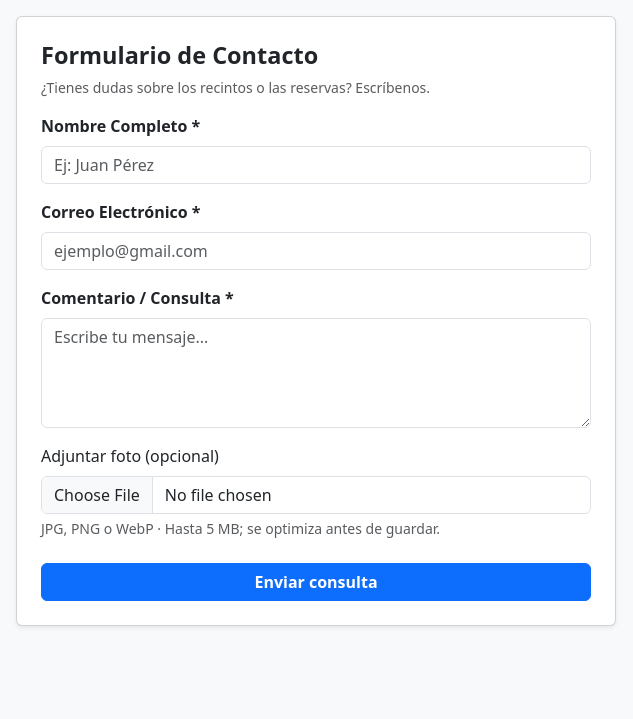
Test: DSY1104 — diez pruebas unitarias de componentes React con Vitest › 04 actualiza el estado del formulario de contacto y entrega los datos al guardar
The width and height of the screenshot is (633, 719).
Type "Vecino Ejemplo" into the field labelled "Nombre Completo *" at (316, 165), box x1=41 y1=146 x2=591 y2=184
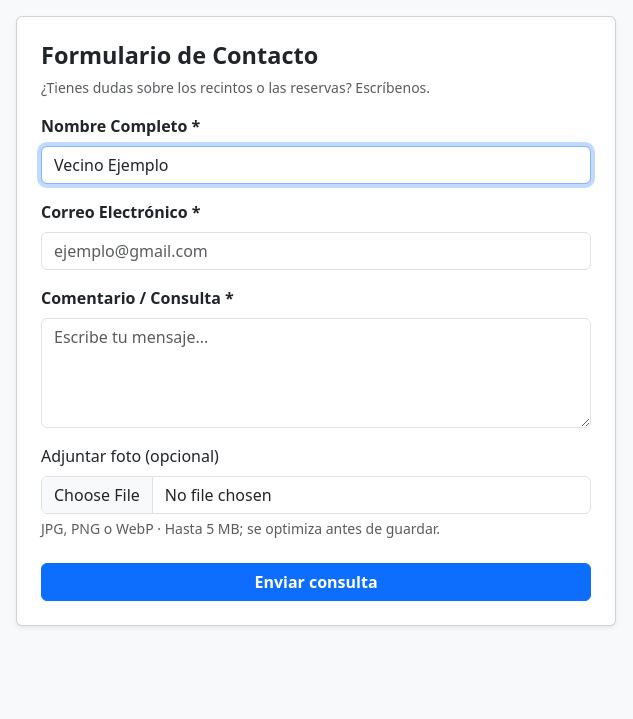
Type "vecino@gmail.com" into the field labelled "Correo Electrónico *" at (316, 251), box x1=41 y1=232 x2=591 y2=270
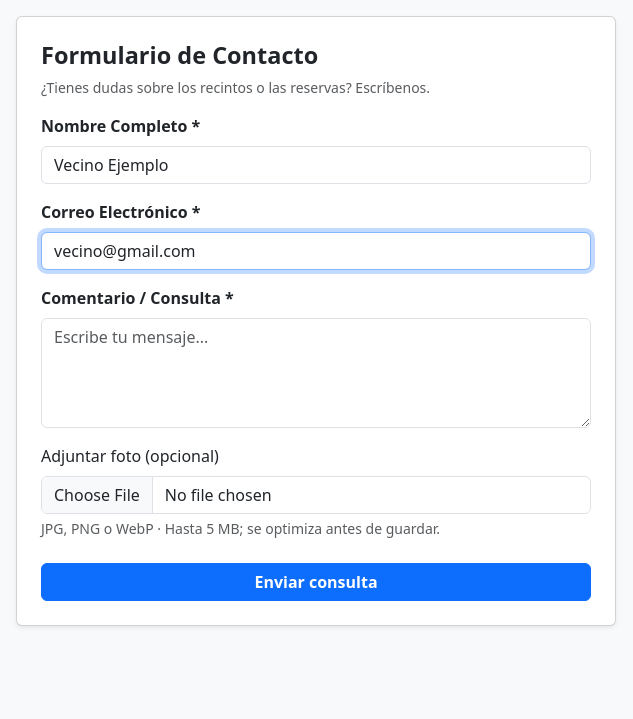
Type "Consulta sobre las canchas." into the text box labelled "Comentario / Consulta *" at (316, 373), box x1=41 y1=318 x2=591 y2=428
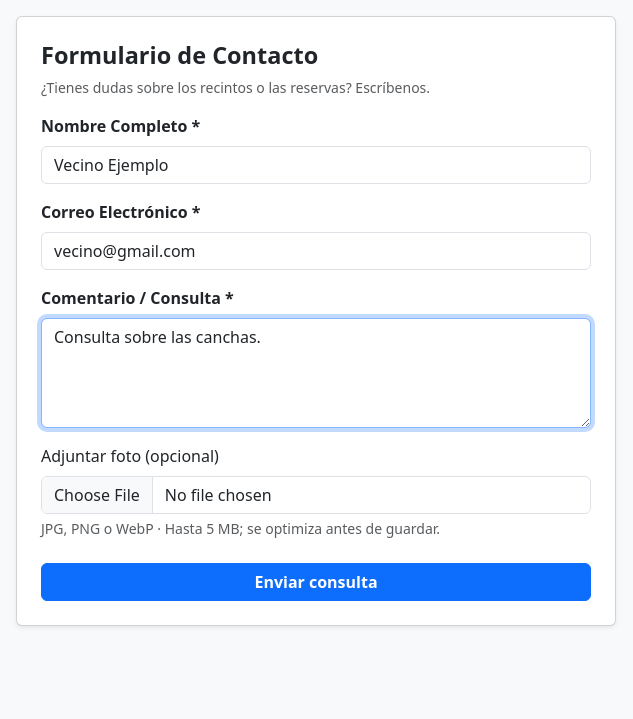
Click the button "Enviar consulta" at (316, 582), box x1=41 y1=563 x2=591 y2=601
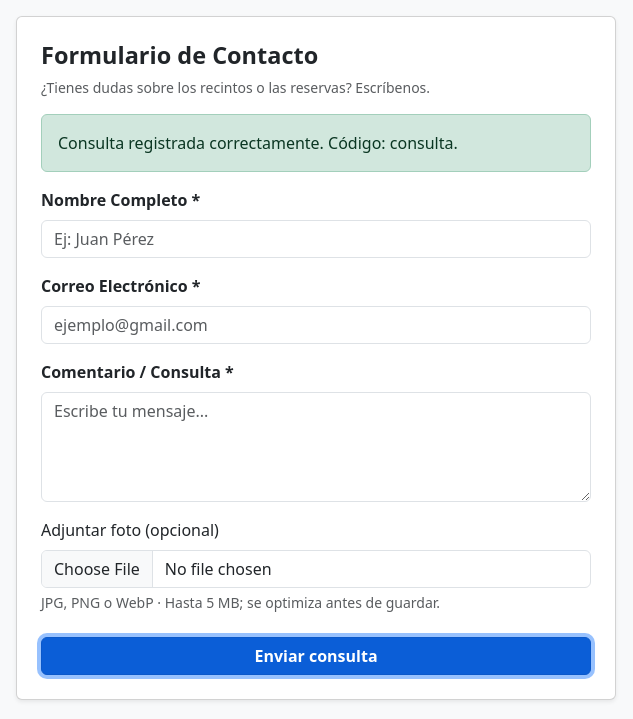
expect the message shows "Consulta registrada correctamente": met, box x1=58 y1=132 x2=458 y2=154
expect the field labelled "Nombre Completo *" is empty: met, box x1=41 y1=220 x2=591 y2=258
